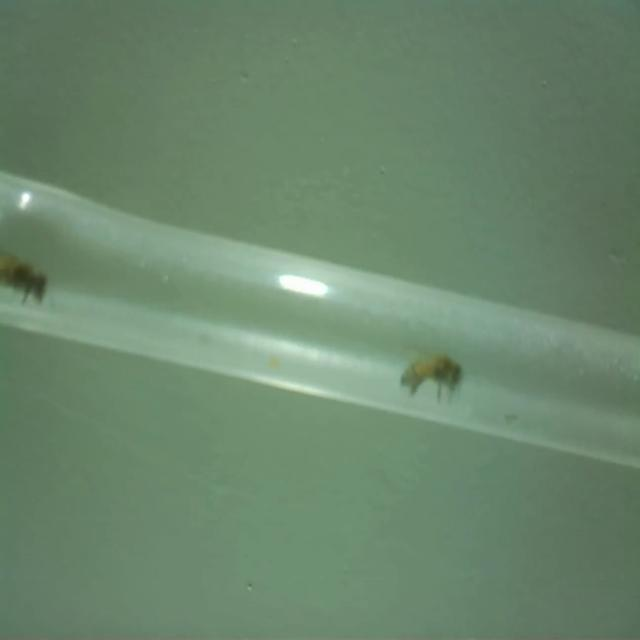Honeybee-Detection: (0, 234, 59, 310), (399, 341, 468, 402)
